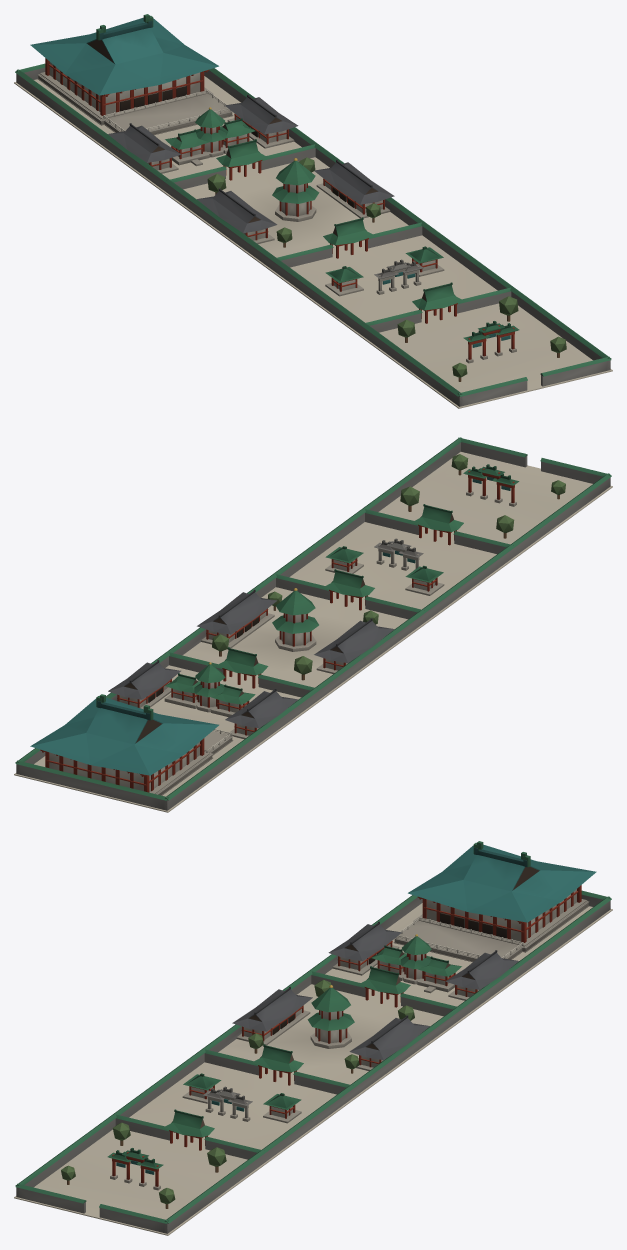
File: great-mosque.glb
3 renders of one model, top to bottom at view 1: azimuth 30°, elevation 25°; view 2: azimuth 150°, elevation 25°; view 3: azimuth 330°, elevation 25°, orthographic.
Parts seen in each view (by area): view 1: p0_prayer, p2_trees, p1_halls; view 2: p0_prayer, p2_trees, p1_halls; view 3: p0_prayer, p2_trees, p1_halls.
Boxes of the visible parts, x1=… form: p0_prayer: x1=14, y1=63, x2=612, y2=408; p2_trees: x1=30, y1=14, x2=566, y2=381; p1_halls: x1=39, y1=58, x2=519, y2=363; p0_prayer: x1=14, y1=437, x2=612, y2=812; p2_trees: x1=30, y1=454, x2=565, y2=775; p1_halls: x1=40, y1=464, x2=519, y2=793; p0_prayer: x1=14, y1=890, x2=612, y2=1235; p2_trees: x1=61, y1=841, x2=596, y2=1208; p1_halls: x1=107, y1=885, x2=587, y2=1190.
Bounding box in the file's own units: 50.01 × 21.27 × 250.
